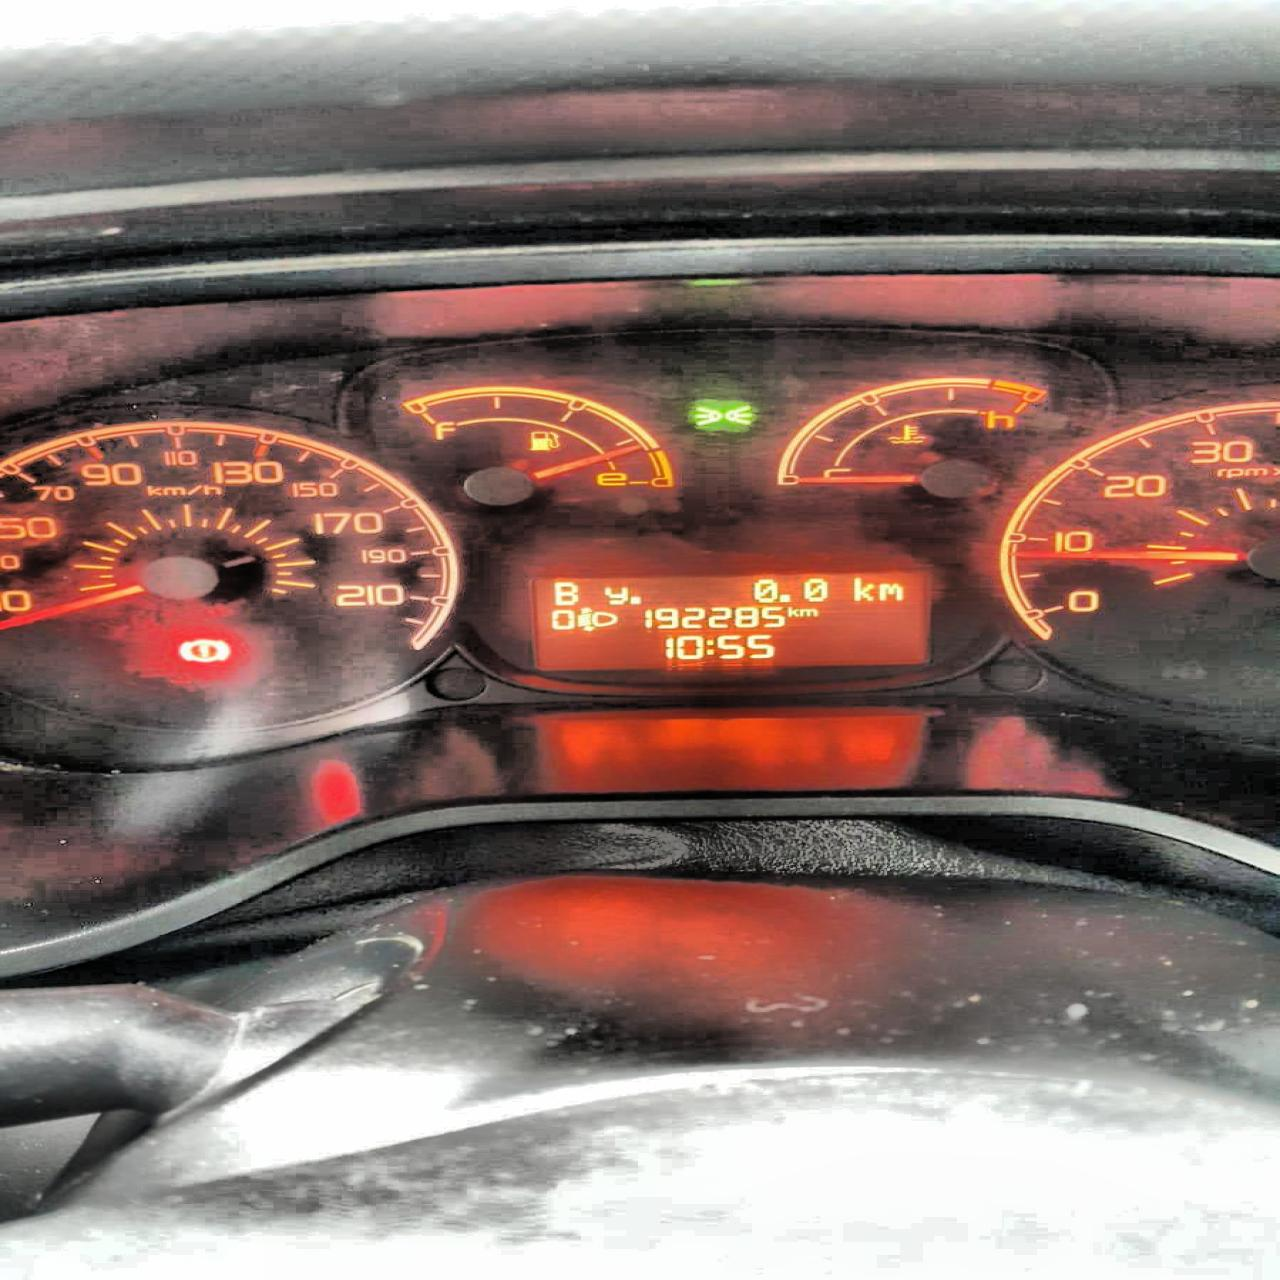-: (628, 594, 641, 605), (777, 593, 790, 602)
0: (674, 634, 703, 659), (802, 577, 828, 602), (751, 578, 777, 602), (550, 610, 573, 629)
1: (663, 636, 674, 659), (642, 608, 652, 627)
2: (679, 606, 704, 628), (707, 606, 731, 628)
5: (744, 634, 775, 658), (715, 634, 743, 659), (761, 606, 784, 628)
8: (734, 606, 758, 628)
9: (654, 607, 678, 628)
X: (553, 583, 578, 606), (851, 577, 874, 601), (877, 583, 903, 601), (602, 586, 628, 605), (797, 607, 817, 617), (703, 639, 714, 655), (787, 606, 799, 617)
odometer: (525, 568, 940, 673)
